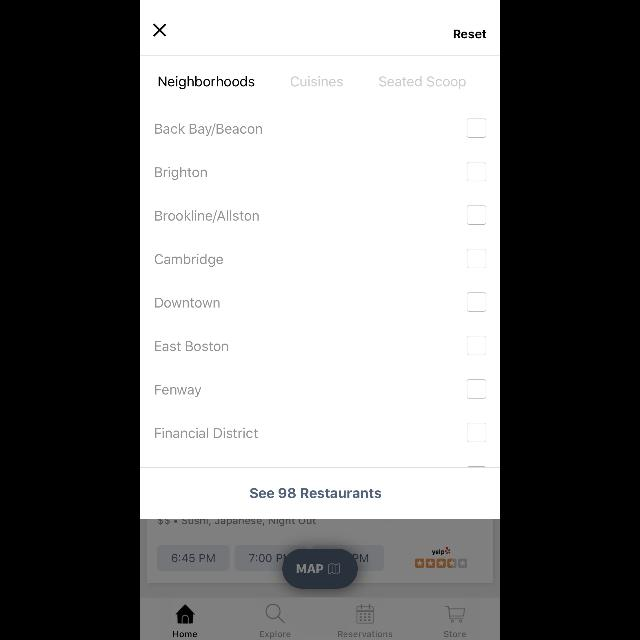checkbox: (468, 162, 487, 182), (468, 292, 487, 312), (468, 336, 487, 356), (468, 119, 487, 138), (468, 379, 487, 398), (468, 423, 487, 442), (468, 206, 487, 224), (468, 250, 487, 268)
icon: (154, 24, 166, 36)
text: (155, 210, 259, 223), (159, 76, 255, 90), (250, 488, 382, 498), (156, 124, 262, 136), (380, 76, 466, 90), (156, 428, 258, 438), (155, 254, 223, 266), (156, 341, 228, 351), (155, 167, 207, 180), (155, 384, 201, 398), (156, 298, 220, 308), (291, 76, 343, 88), (454, 29, 486, 38)
